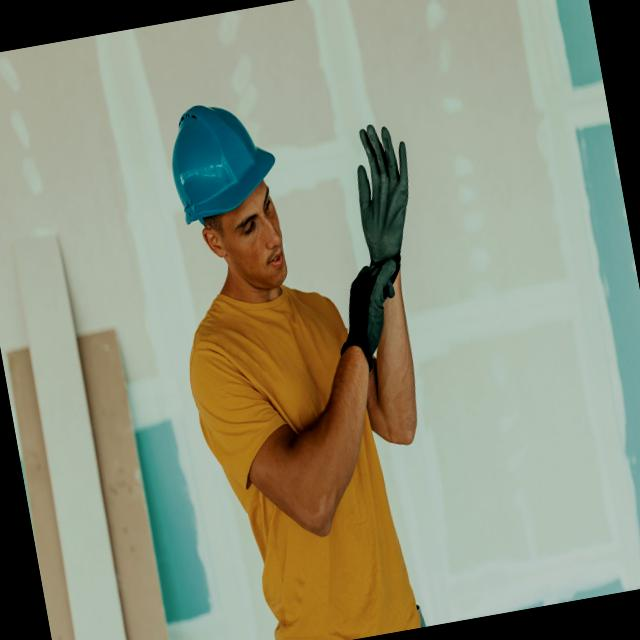helmet: (146, 88, 296, 244)
no-goggles: (204, 190, 302, 247)
no-vest: (175, 259, 435, 640)
